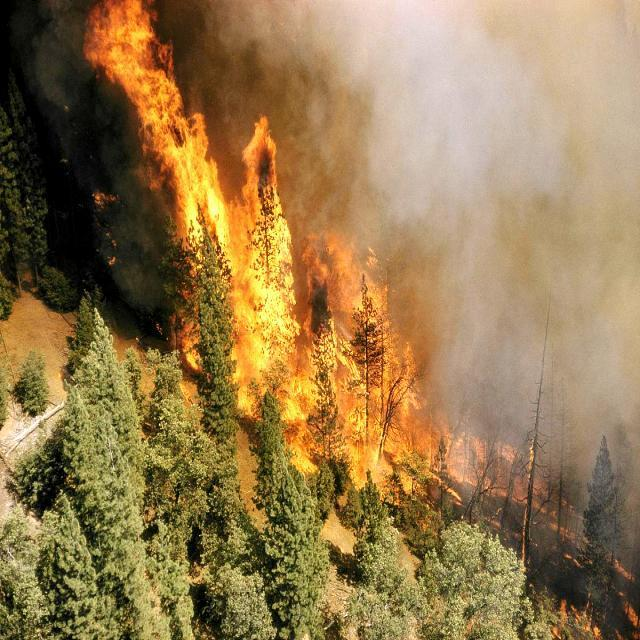Fire: (92, 1, 292, 405), (298, 237, 449, 482)
Smoke: (440, 0, 640, 589), (184, 0, 432, 220)
